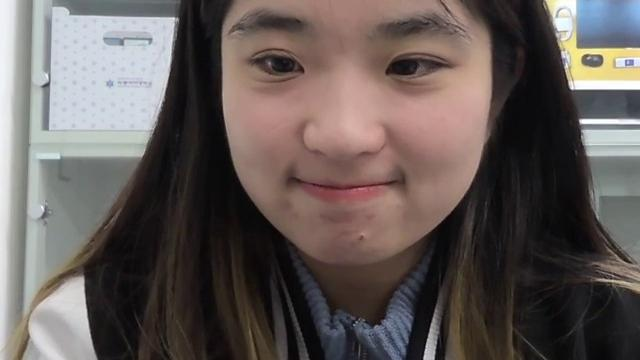eye: (395, 55, 416, 77), (273, 53, 294, 73)
iris: (256, 53, 303, 75), (387, 58, 433, 77)
